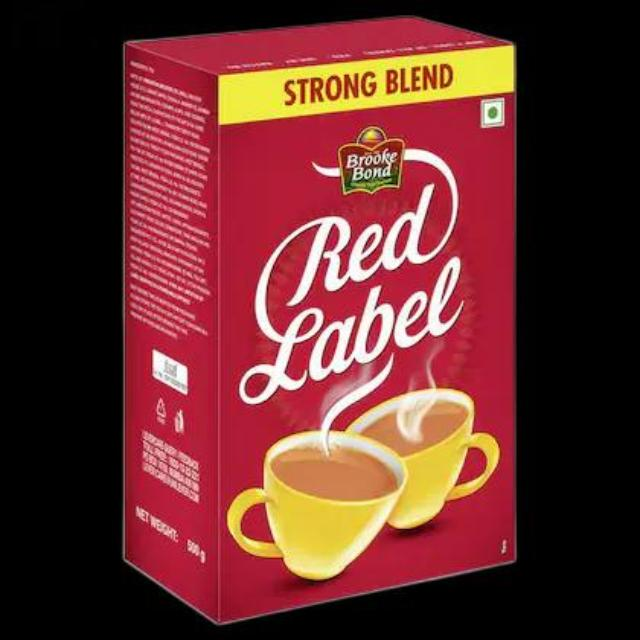Brooke Bond Red Label Leaf Tea 500 g: (116, 13, 522, 625)
